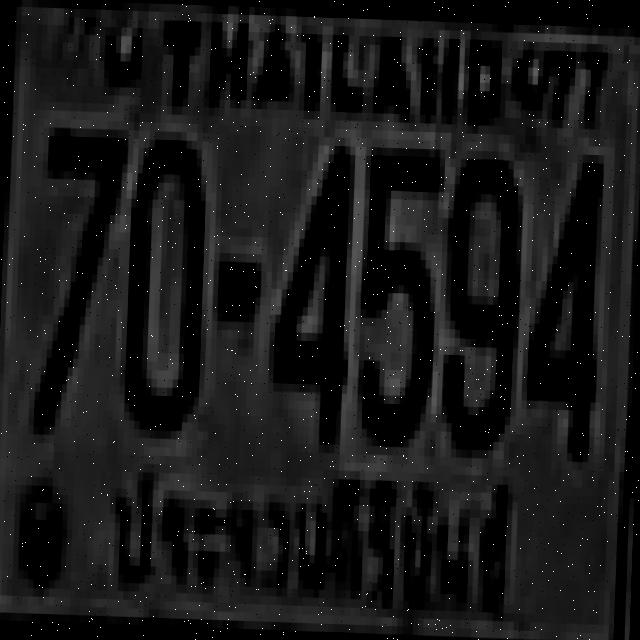0: (118, 130, 202, 422)
4: (266, 135, 350, 436), (522, 148, 601, 449)
5: (353, 138, 437, 439)
7: (33, 118, 123, 428)
9: (435, 150, 519, 442)
PrachuapKhiriKhan: (90, 450, 528, 640)
